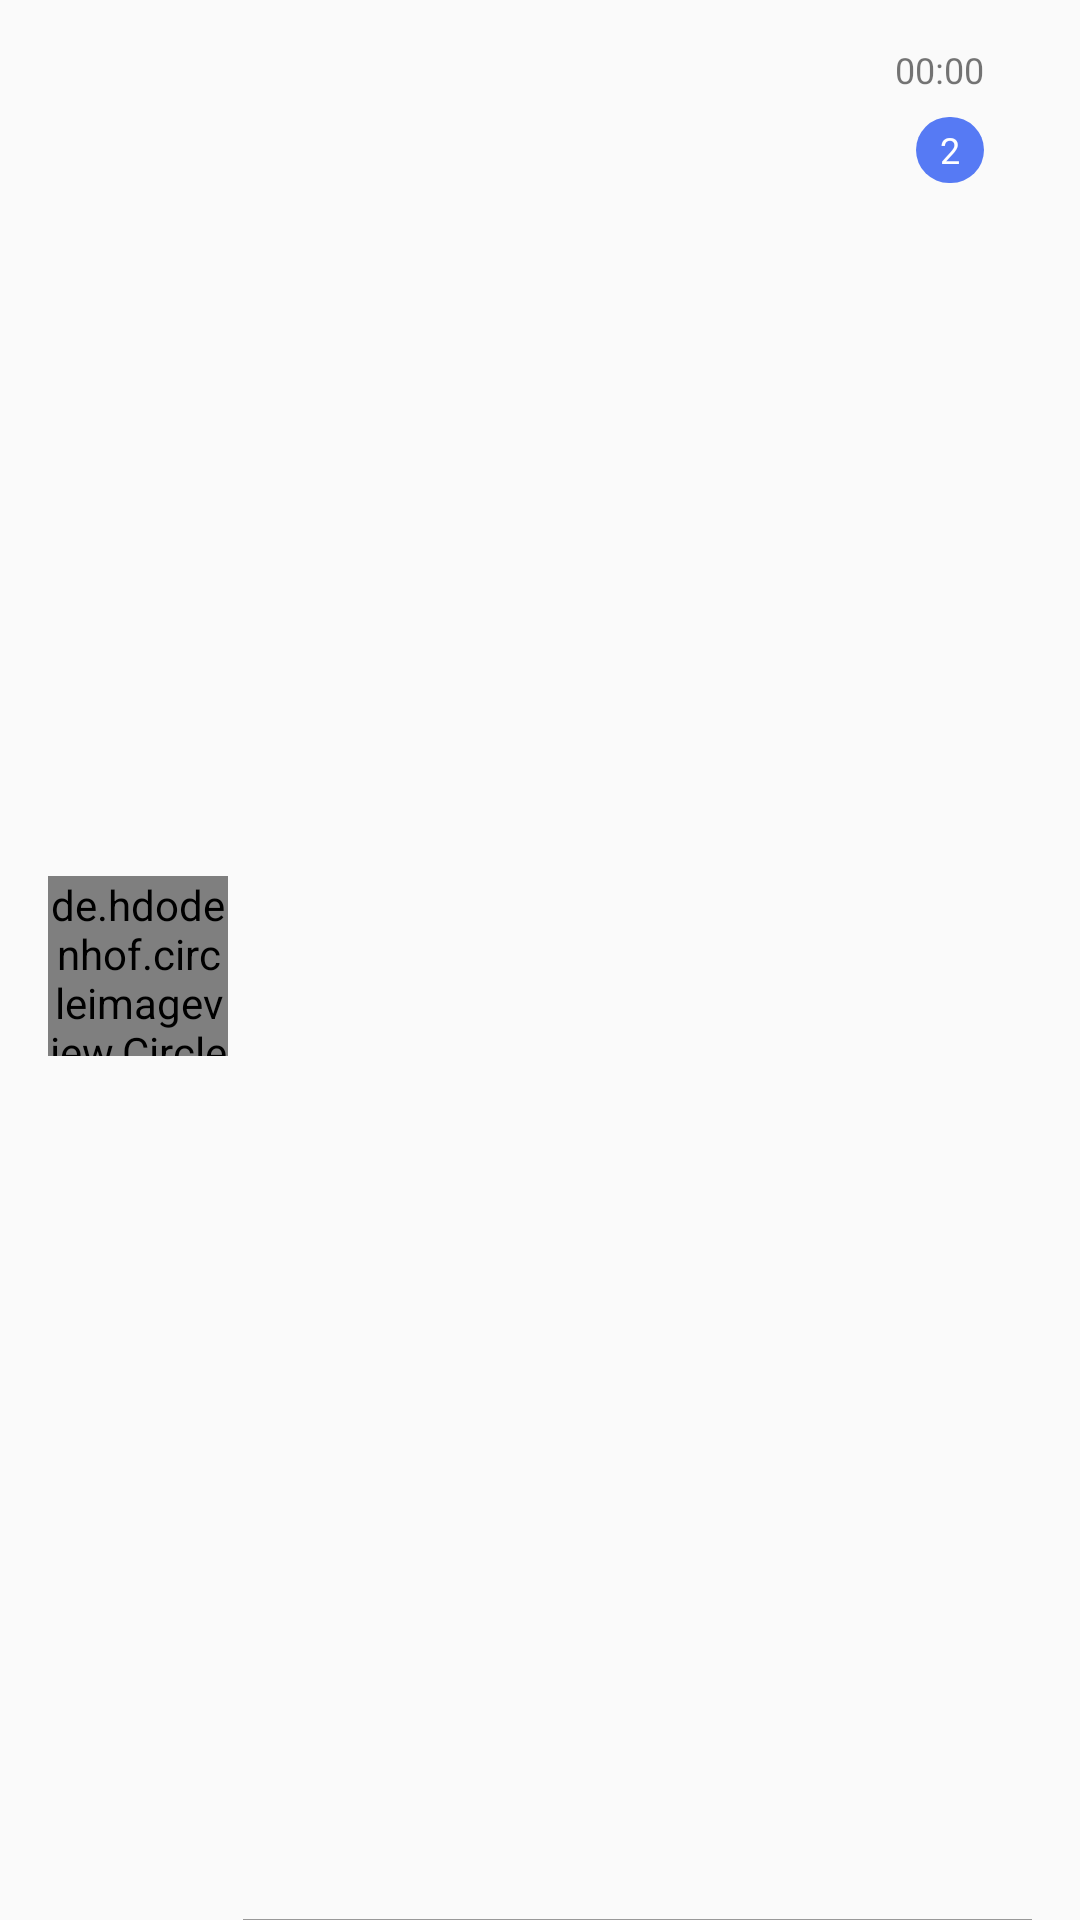

Screen size 1080w x 1920h. Icon name, then its box in pixels as box(x1, y1, x2, y2):
layerlist circle: box(916, 117, 984, 183)
